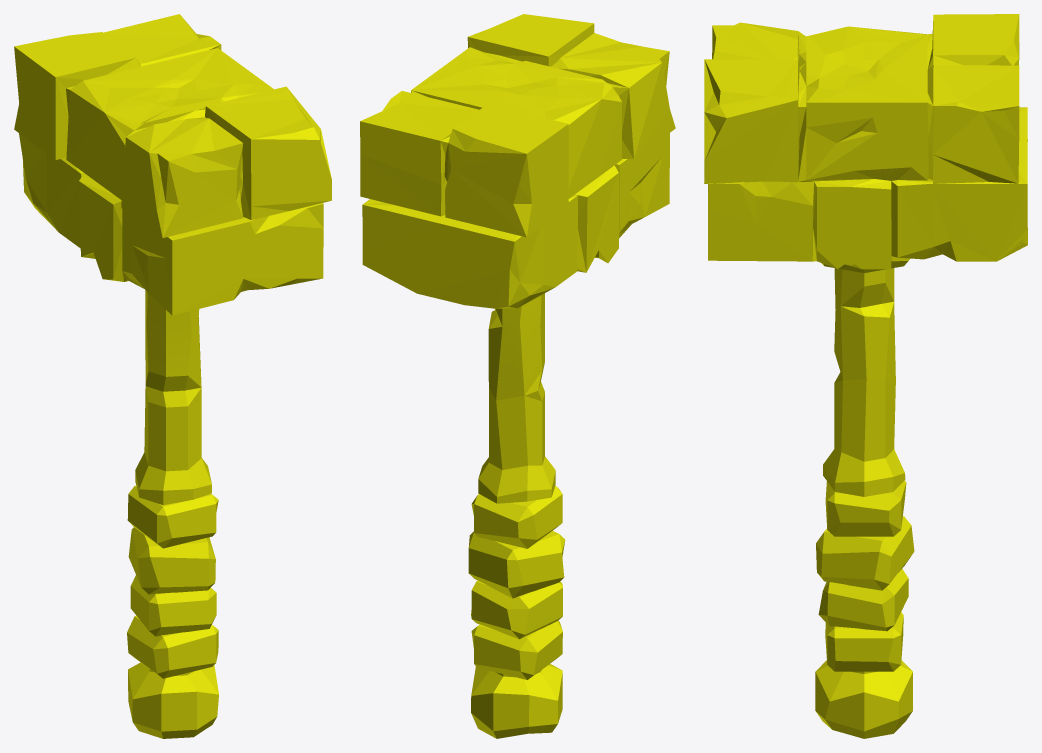
File: SM_Wep_FortGolem_01.glb
3 renders of one model, left to right at view 1: azimuth 30°, elevation 25°; view 2: azimuth 150°, elevation 25°; view 3: azimuth 270°, elevation 25°, orthographic. The views are drawn at different scales.
Visible parts, largest first — view 1: SM_Wep_FortGolem_01; view 2: SM_Wep_FortGolem_01; view 3: SM_Wep_FortGolem_01.
Part boxes in pixels (box(x1,y1,x2,y2)): SM_Wep_FortGolem_01: box(14, 14, 331, 738); SM_Wep_FortGolem_01: box(360, 14, 675, 738); SM_Wep_FortGolem_01: box(704, 14, 1027, 738).
Size of the model in its own units: 0.3054 by 1.13 by 0.4981.
